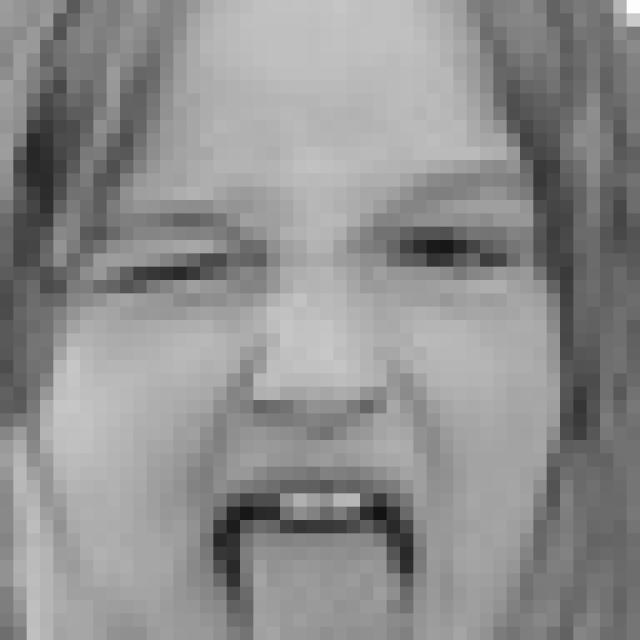disgust: (83, 166, 548, 640)
